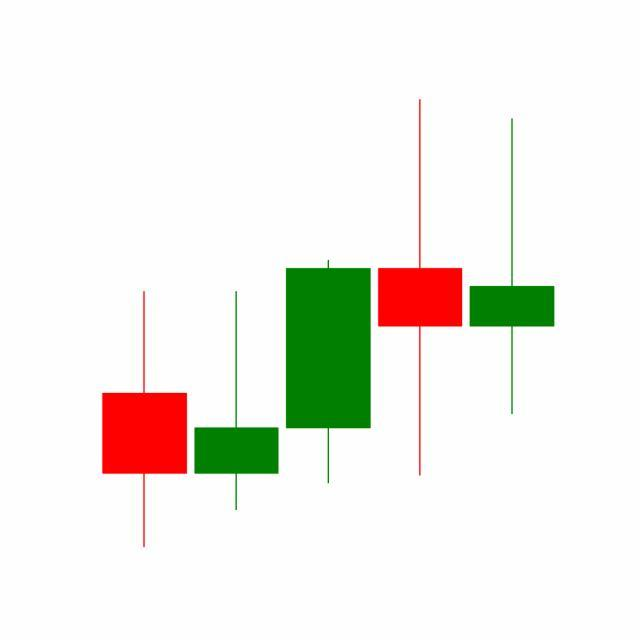Spinning Top: (466, 115, 559, 419)
